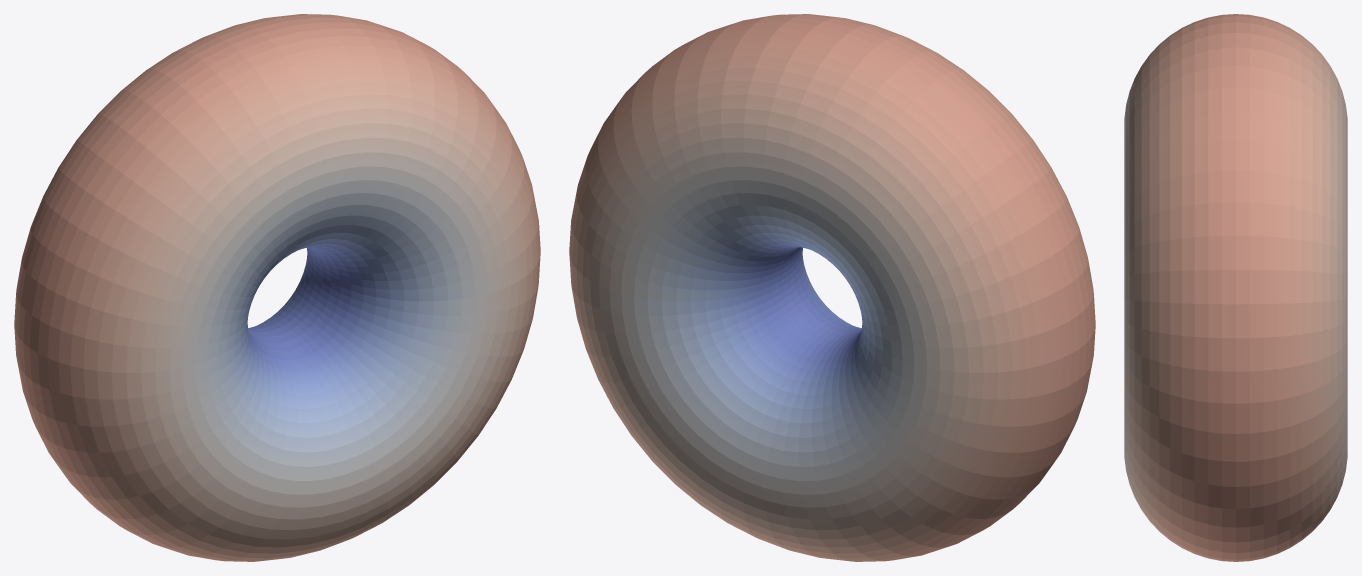
3 renders of one model, left to right at view 1: azimuth 30°, elevation 25°; view 2: azimuth 150°, elevation 25°; view 3: azimuth 270°, elevation 25°, orthographic. The views are drawn at different scales.
Visible parts, largest first — view 1: world; view 2: world; view 3: world.
Boxes of the visible parts, <box> form: world: <box>14,14,540,561</box>; world: <box>569,14,1095,561</box>; world: <box>1124,14,1347,561</box>.
Size of the model in its own units: 22.53 by 22.49 by 9.18.
